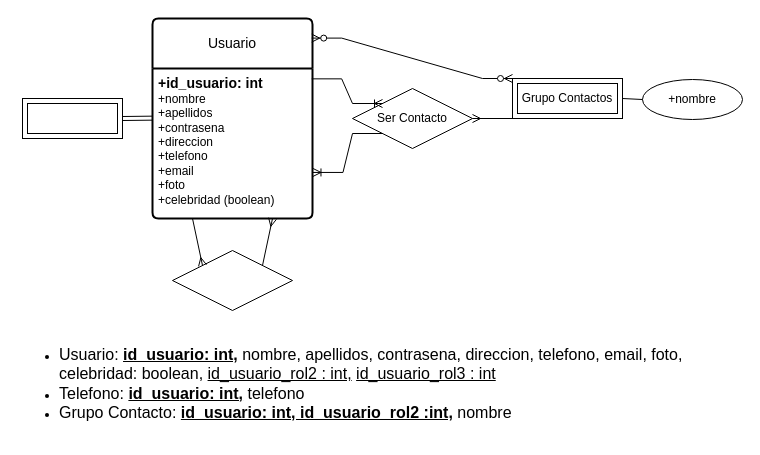
Some shapes in this 760 by 455 pixel diagram are drawn without their labels. The centre of each missing label's shape, as x and y in pixels:
"Ser Bloqueado" belongs at (232,280).
"telefono" belongs at (72,118).
